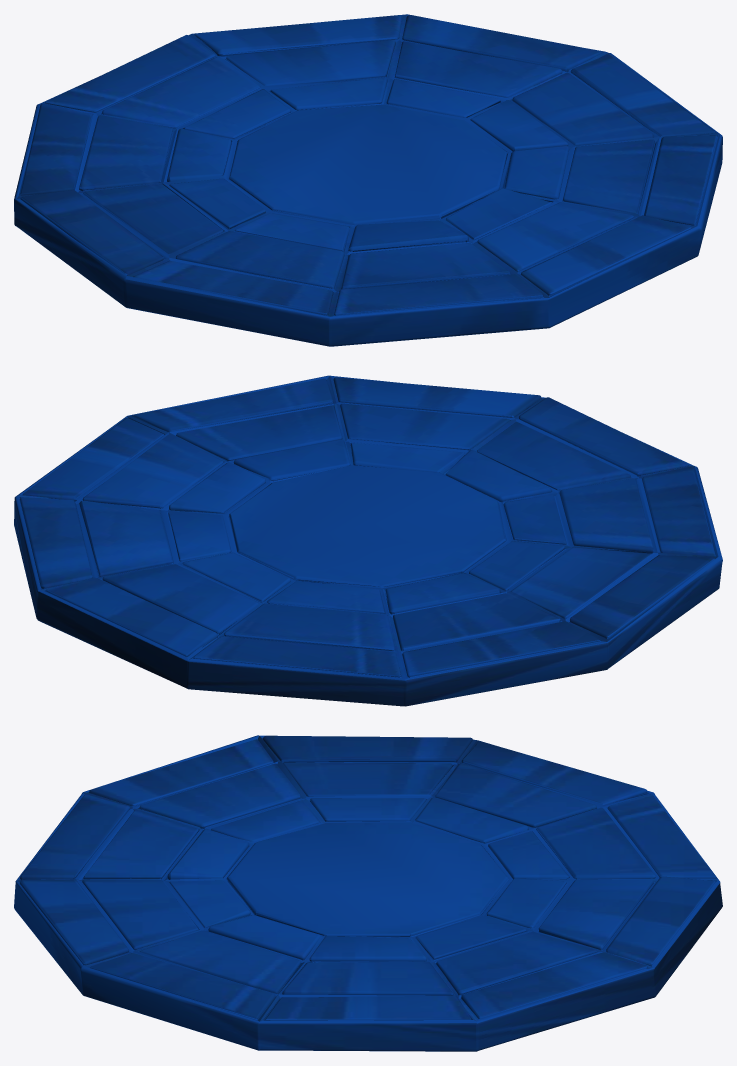
File: CannonPedestal(new).fbx
3 renders of one model, top to bottom at view 1: azimuth 30°, elevation 25°; view 2: azimuth 150°, elevation 25°; view 3: azimuth 270°, elevation 25°, orthographic. The views are drawn at different scales.
Parts seen in each view (by area): view 1: Cylinder.001; view 2: Cylinder.001; view 3: Cylinder.001.
Part boxes in pixels (left/top/right/bottom): Cylinder.001: left=14, top=14, right=722, bottom=346; Cylinder.001: left=14, top=375, right=722, bottom=706; Cylinder.001: left=14, top=735, right=722, bottom=1051.
Bounding box in the file's own units: 5.76 × 0.3372 × 6.03.
1 material, 1 textured.
